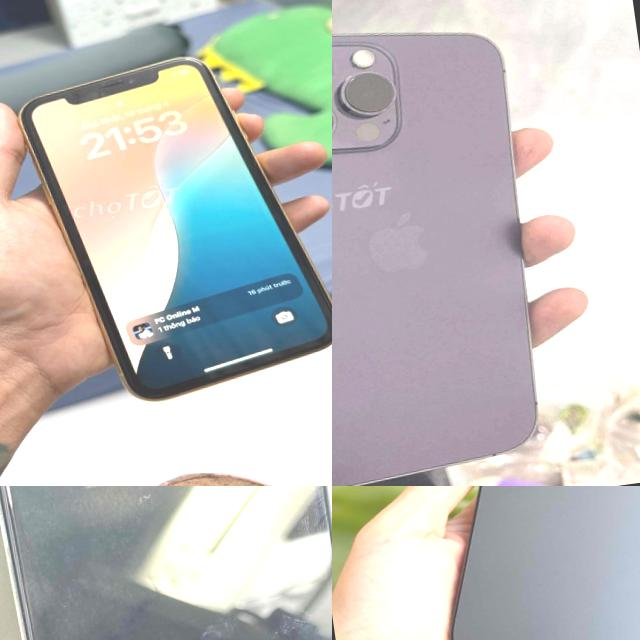gen_11: (0, 486, 332, 640)
gen_14: (332, 0, 561, 486), (396, 486, 640, 640)
gen_x_xs: (20, 58, 332, 400)
